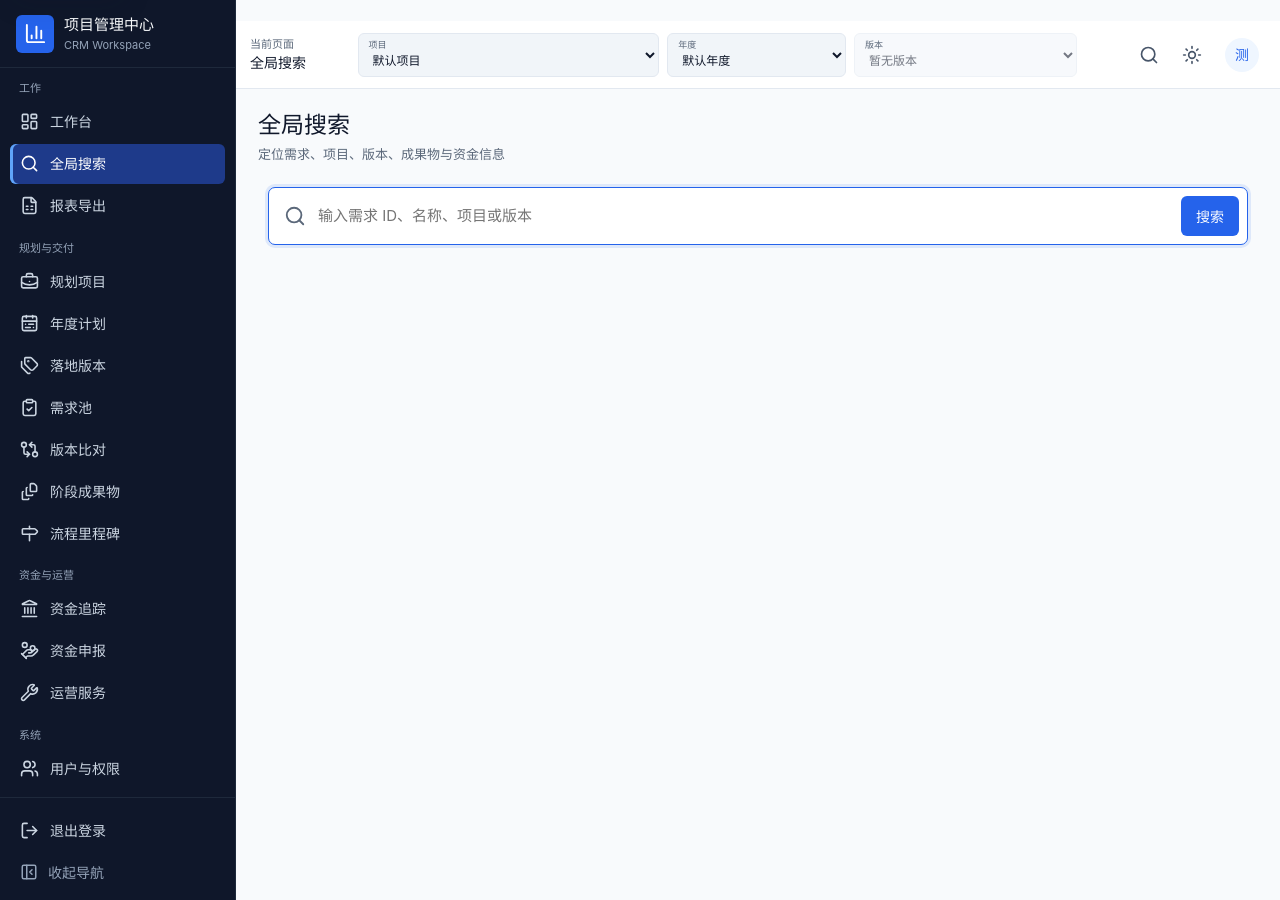
application routes and themes › opens a global-search requirement in its exact project, year and version context
Type "跨项目定位" into the field named "全局搜索" at (744, 216), box [316,204,1171,228]
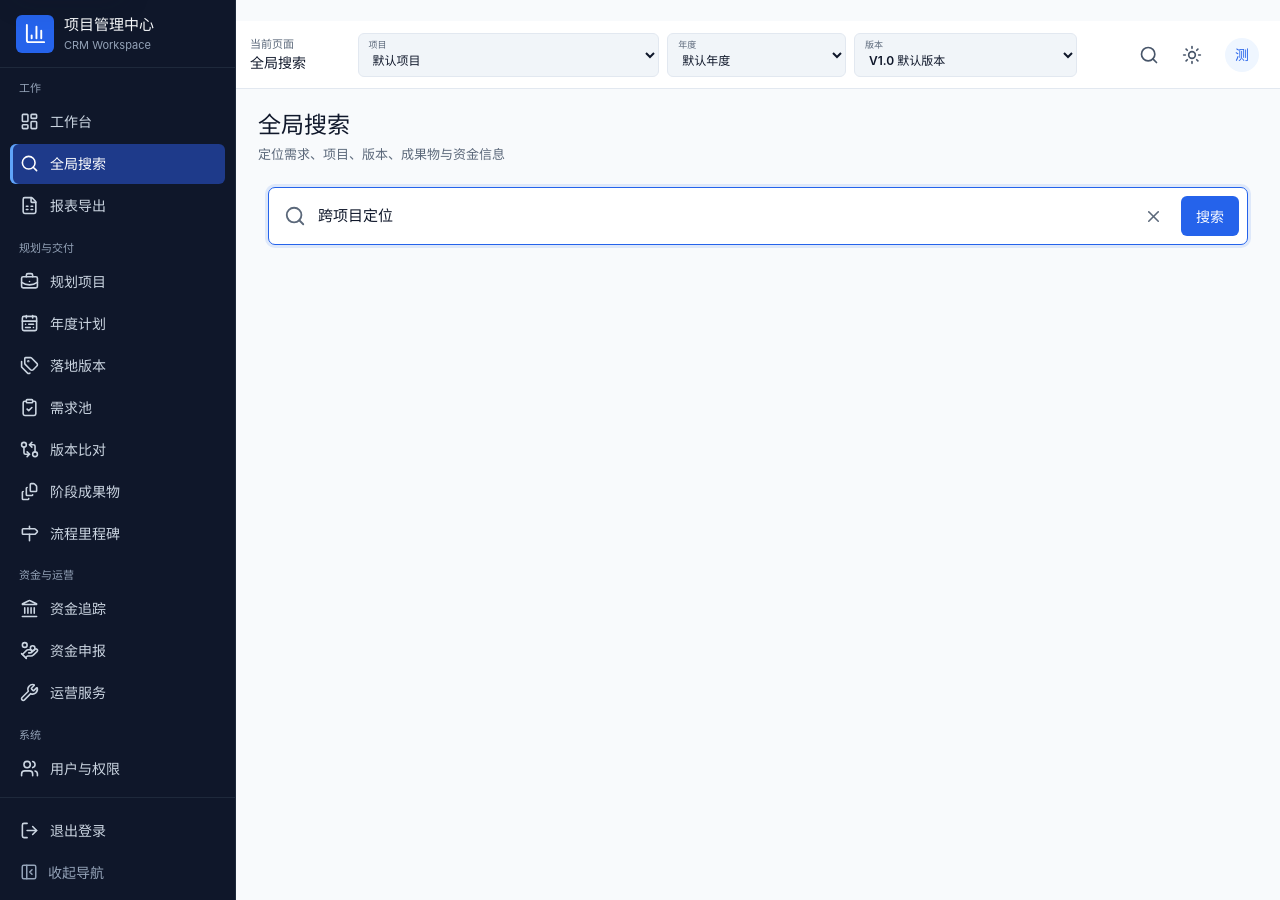
Submit the form named "全局搜索", box [268,187,1248,245]
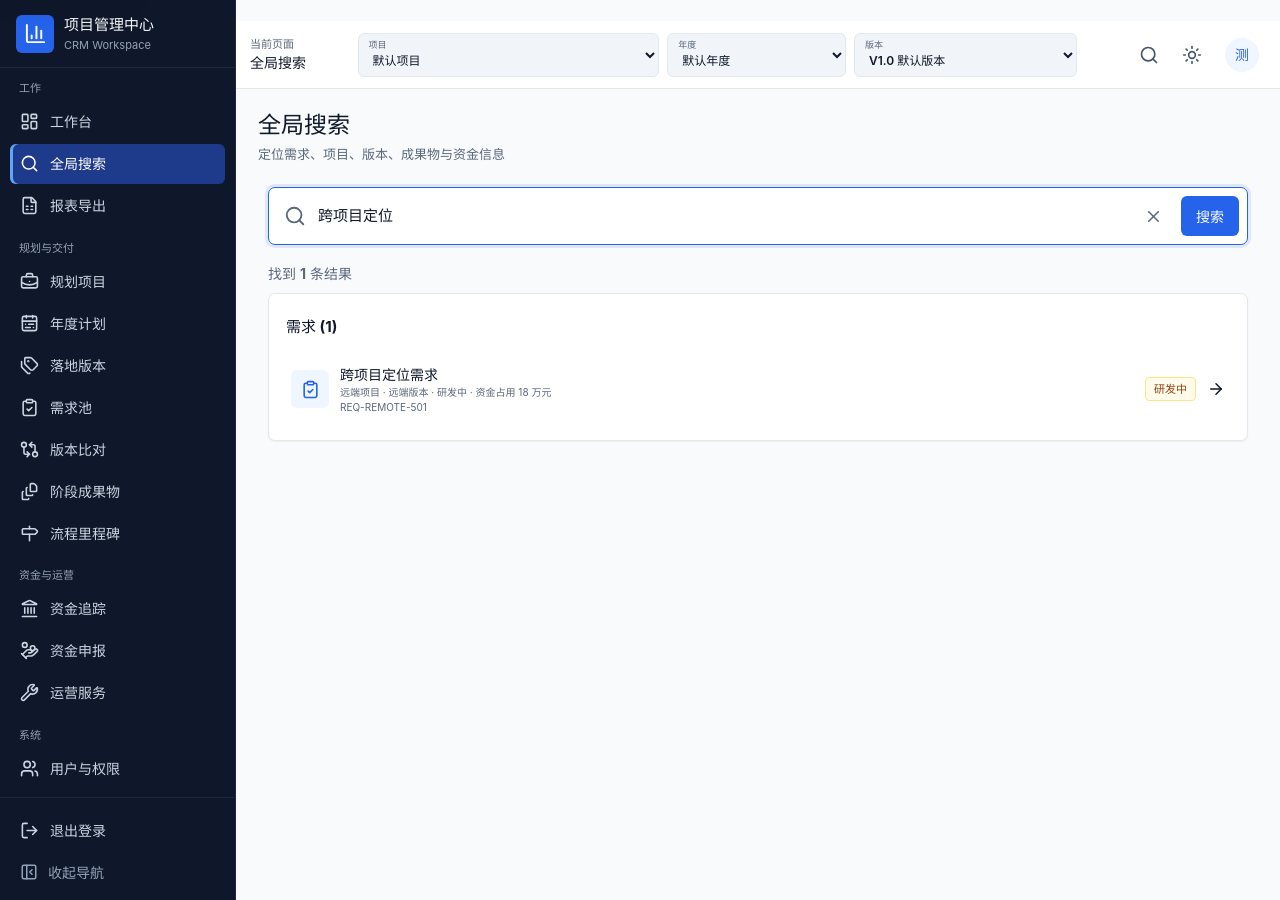
Click the button "跨项目定位需求 远端项目 · 远端版本 · 研发中 · 资金占用 18 万元 REQ-REMOTE-501 研发中" at (310, 389), box [286,355,1230,423]
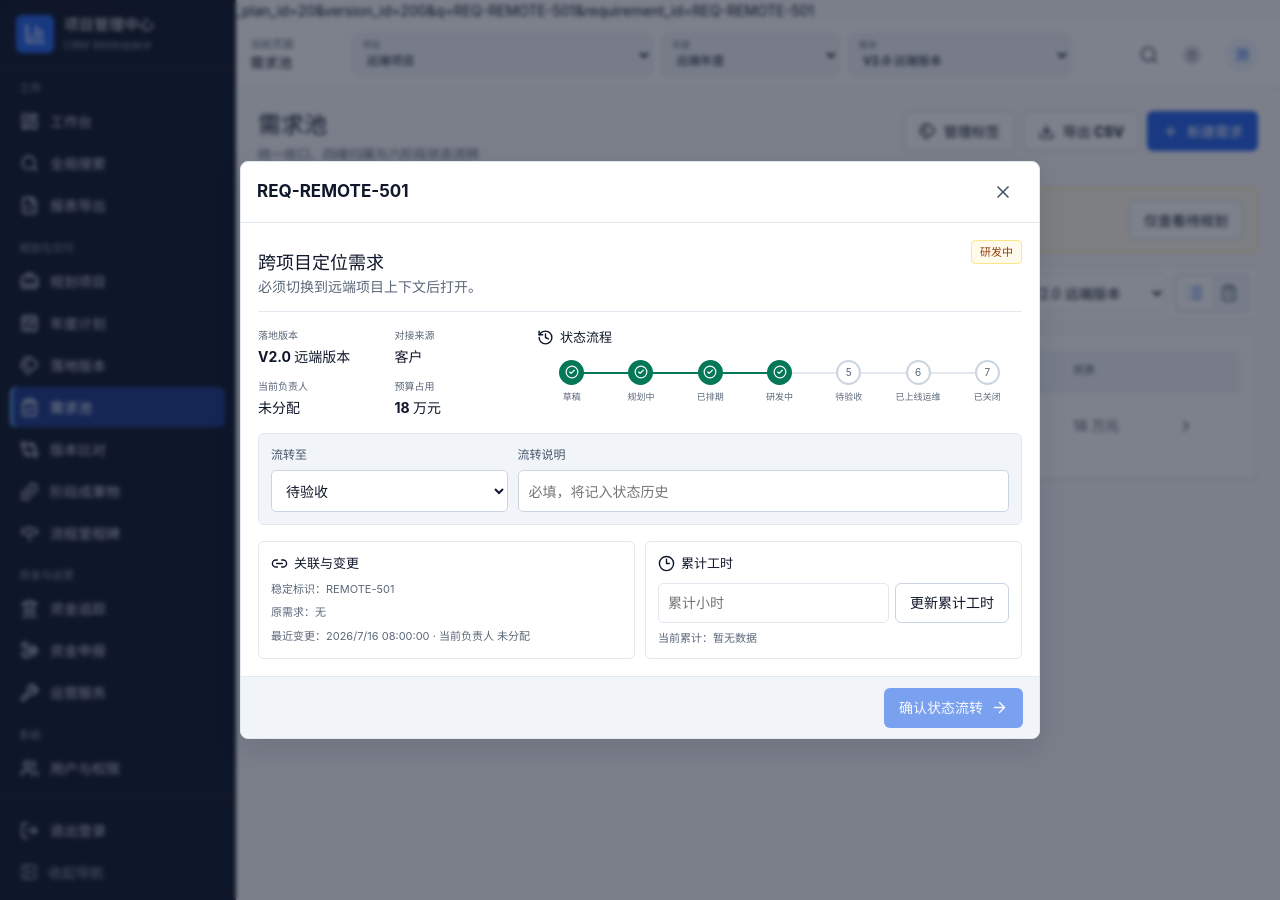
Now the heading "需求池" is shown, box [258,111,327,139]
Now the dropdown labelled "项目" shows "远端项目", box [352,32,653,76]
Now the dropdown labelled "年度" shows "远端年度", box [661,32,840,76]
